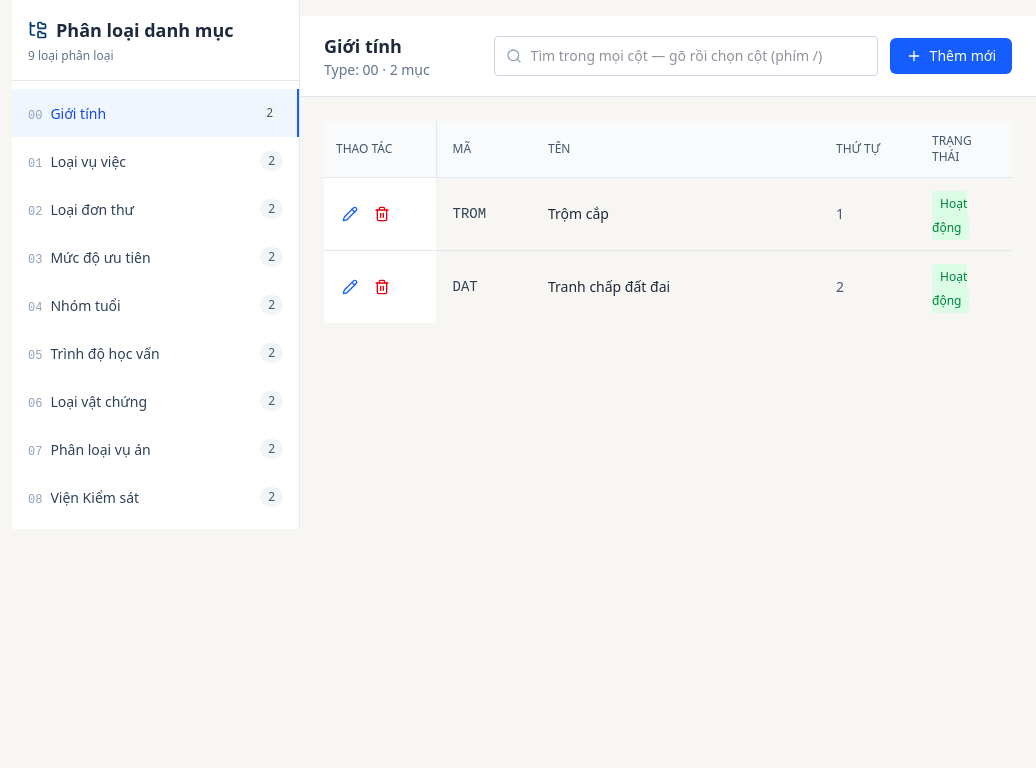
Scenario: gõ rồi Enter → thẻ "tất cả các cột"
The image size is (1036, 768).
In the dropdown named "Tìm kiếm trong danh sách": (700, 56) left=531, top=42, right=869, bottom=70, type "trom cap"
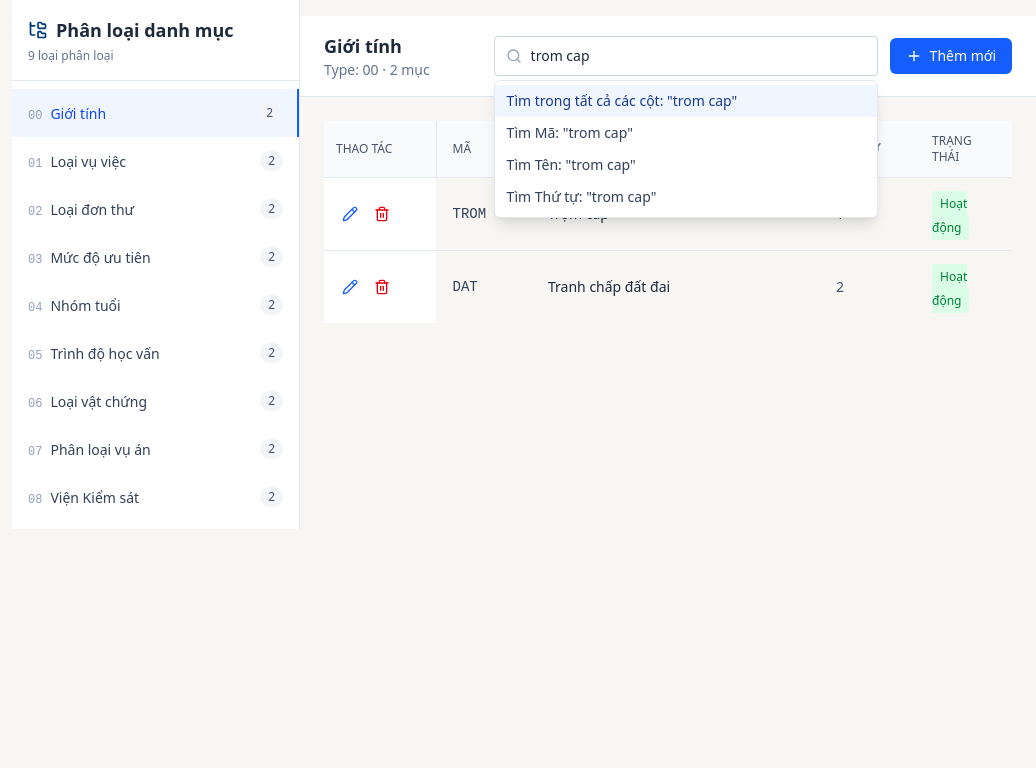
Press Enter in the dropdown named "Tìm kiếm trong danh sách", box left=531, top=42, right=869, bottom=70
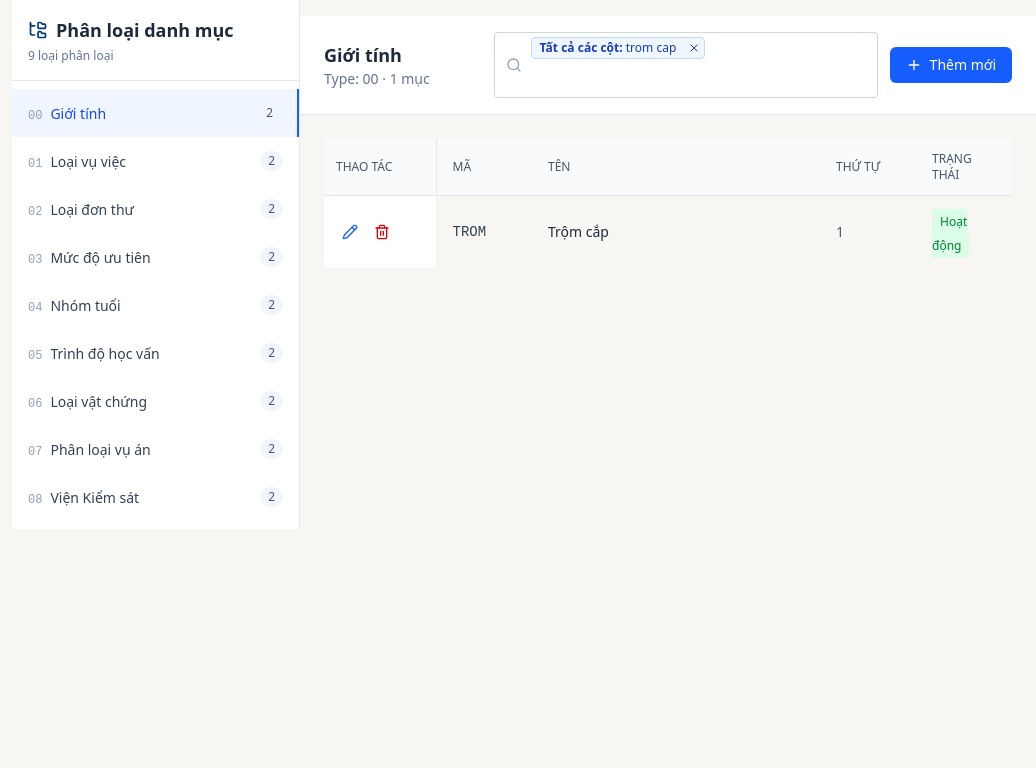
Check: the text "Trộm cắp" is shown, box left=532, top=196, right=820, bottom=268
Check: the text "Tranh chấp đất đai" is gone
